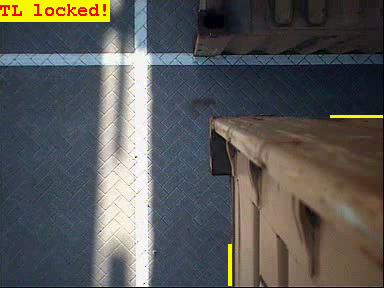groundmarker_2: (93, 45, 223, 129)
